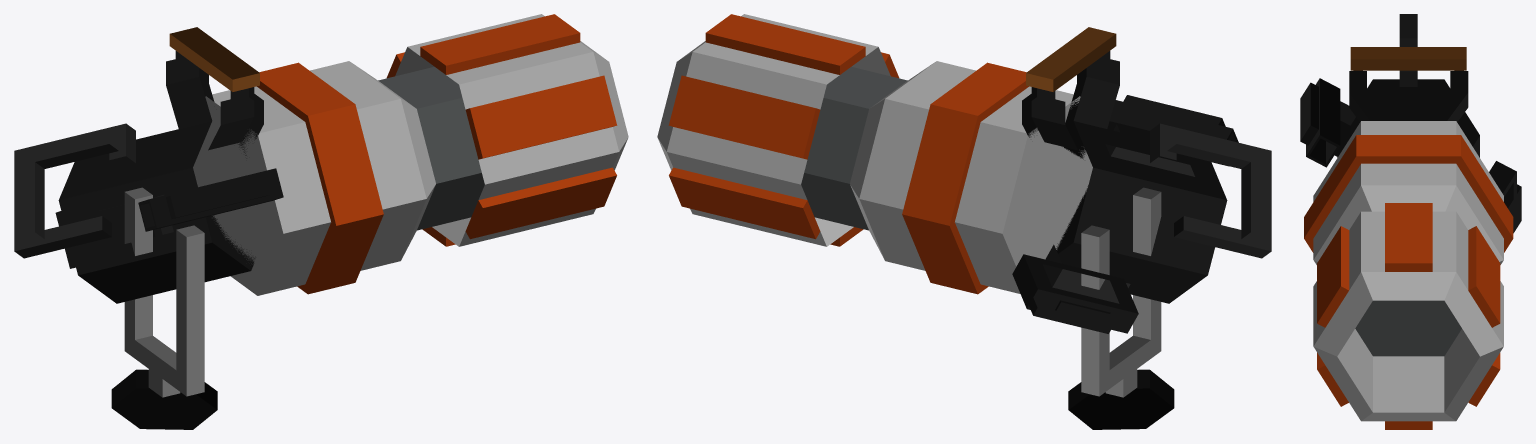
File: rocketeer.fbx
3 views of the same model, side by side, from view 1: azimuth 30°, elevation 25°; view 2: azimuth 150°, elevation 25°; view 3: azimuth 270°, elevation 25° (orthographic). The views are drawn at different scales.
Parts seen in each view (by area): view 1: Cylinder, imagetostl_mesh2, Cylinder.001, imagetostl_mesh0, imagetostl_mesh1; view 2: Cylinder, imagetostl_mesh2, Cylinder.001, imagetostl_mesh0, imagetostl_mesh1; view 3: Cylinder.001, Cylinder, imagetostl_mesh2.
Boxes of the visible parts, x1=… form: Cylinder: x1=193, y1=61, x2=484, y2=295; imagetostl_mesh2: x1=14, y1=27, x2=283, y2=303; Cylinder.001: x1=386, y1=14, x2=628, y2=246; imagetostl_mesh0: x1=124, y1=187, x2=204, y2=397; imagetostl_mesh1: x1=111, y1=369, x2=217, y2=429; Cylinder: x1=801, y1=61, x2=1092, y2=294; imagetostl_mesh2: x1=1012, y1=27, x2=1271, y2=333; Cylinder.001: x1=657, y1=14, x2=899, y2=246; imagetostl_mesh0: x1=1081, y1=187, x2=1161, y2=397; imagetostl_mesh1: x1=1068, y1=369, x2=1174, y2=429; Cylinder.001: x1=1313, y1=203, x2=1503, y2=429; Cylinder: x1=1304, y1=121, x2=1513, y2=356; imagetostl_mesh2: x1=1300, y1=14, x2=1521, y2=233.
Size of the model in its own units: 637 by 367 by 233.
